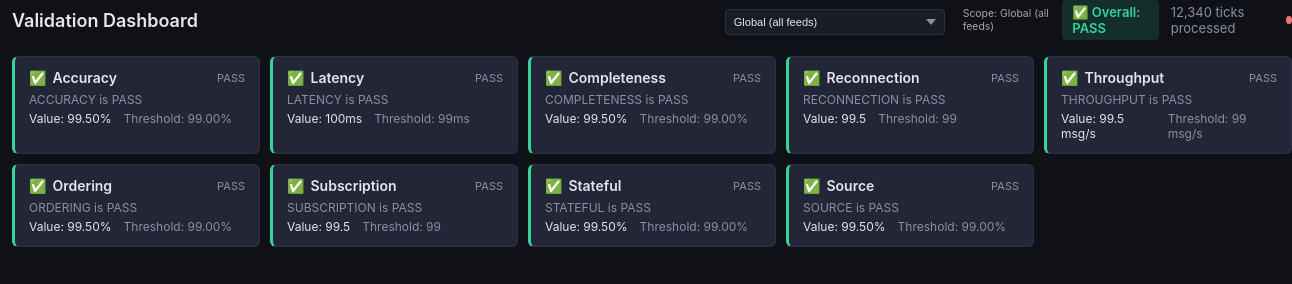
Test: ValidationDashboard › collapses card details on second click
Click to expand
Click the text "Latency" at (337, 78), box 310,69 -> 364,86
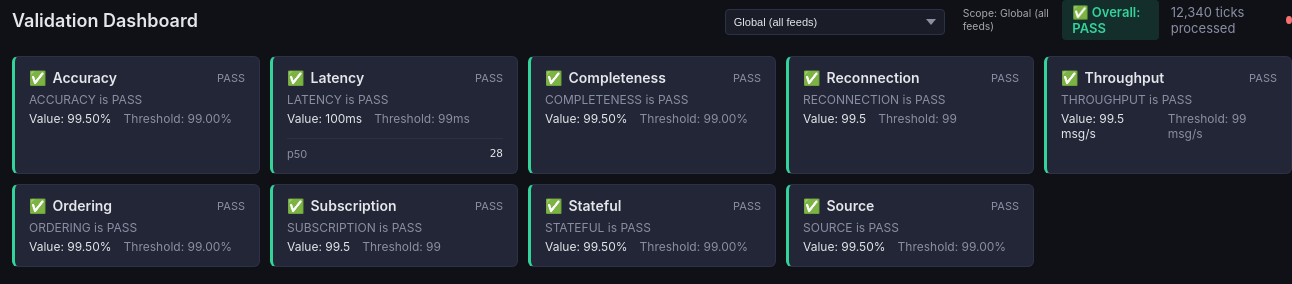
Check: the text "p50" is shown, box 287,147 -> 307,161
Click to collapse
Click the text "Latency" at (337, 78), box 310,69 -> 364,86
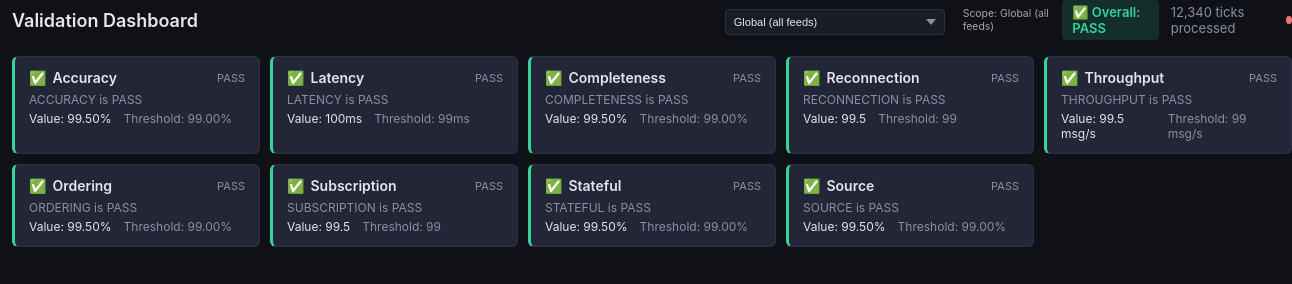
Check: the text "p50" is gone
